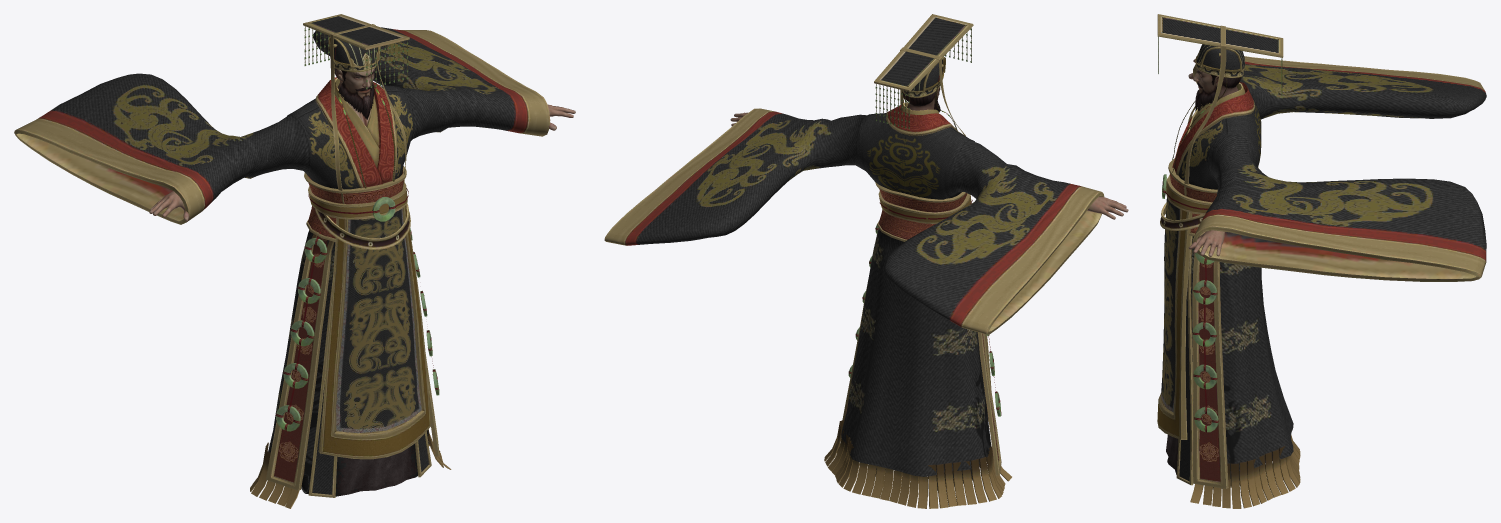
Rendered from 秦始皇.fbx.
The picture shows the model from 3 angles, left to right: view 1: azimuth 30°, elevation 25°; view 2: azimuth 150°, elevation 25°; view 3: azimuth 270°, elevation 25°; orthographic projection. The views are drawn at different scales.
Visible parts, largest first — view 1: Obj3d66-19951219-4-113, Obj3d66-19951219-2-429, Obj3d66-19951219-3-526, Obj3d66-19951219-1-236; view 2: Obj3d66-19951219-4-113, Obj3d66-19951219-2-429, Obj3d66-19951219-3-526; view 3: Obj3d66-19951219-4-113, Obj3d66-19951219-2-429, Obj3d66-19951219-3-526, Obj3d66-19951219-1-236.
Boxes of the visible parts, x1,y1,x2,y2 form: Obj3d66-19951219-4-113: (14, 27, 575, 508); Obj3d66-19951219-2-429: (303, 14, 409, 203); Obj3d66-19951219-3-526: (304, 26, 408, 188); Obj3d66-19951219-1-236: (317, 68, 375, 126); Obj3d66-19951219-4-113: (604, 102, 1128, 508); Obj3d66-19951219-2-429: (874, 14, 973, 136); Obj3d66-19951219-3-526: (875, 28, 971, 130); Obj3d66-19951219-4-113: (1157, 56, 1486, 508); Obj3d66-19951219-2-429: (1157, 14, 1283, 196); Obj3d66-19951219-3-526: (1158, 36, 1282, 172); Obj3d66-19951219-1-236: (1193, 67, 1238, 104).
Bounding box in the file's own units: 68.63 × 71.72 × 48.28.
4 materials, 4 textured.
